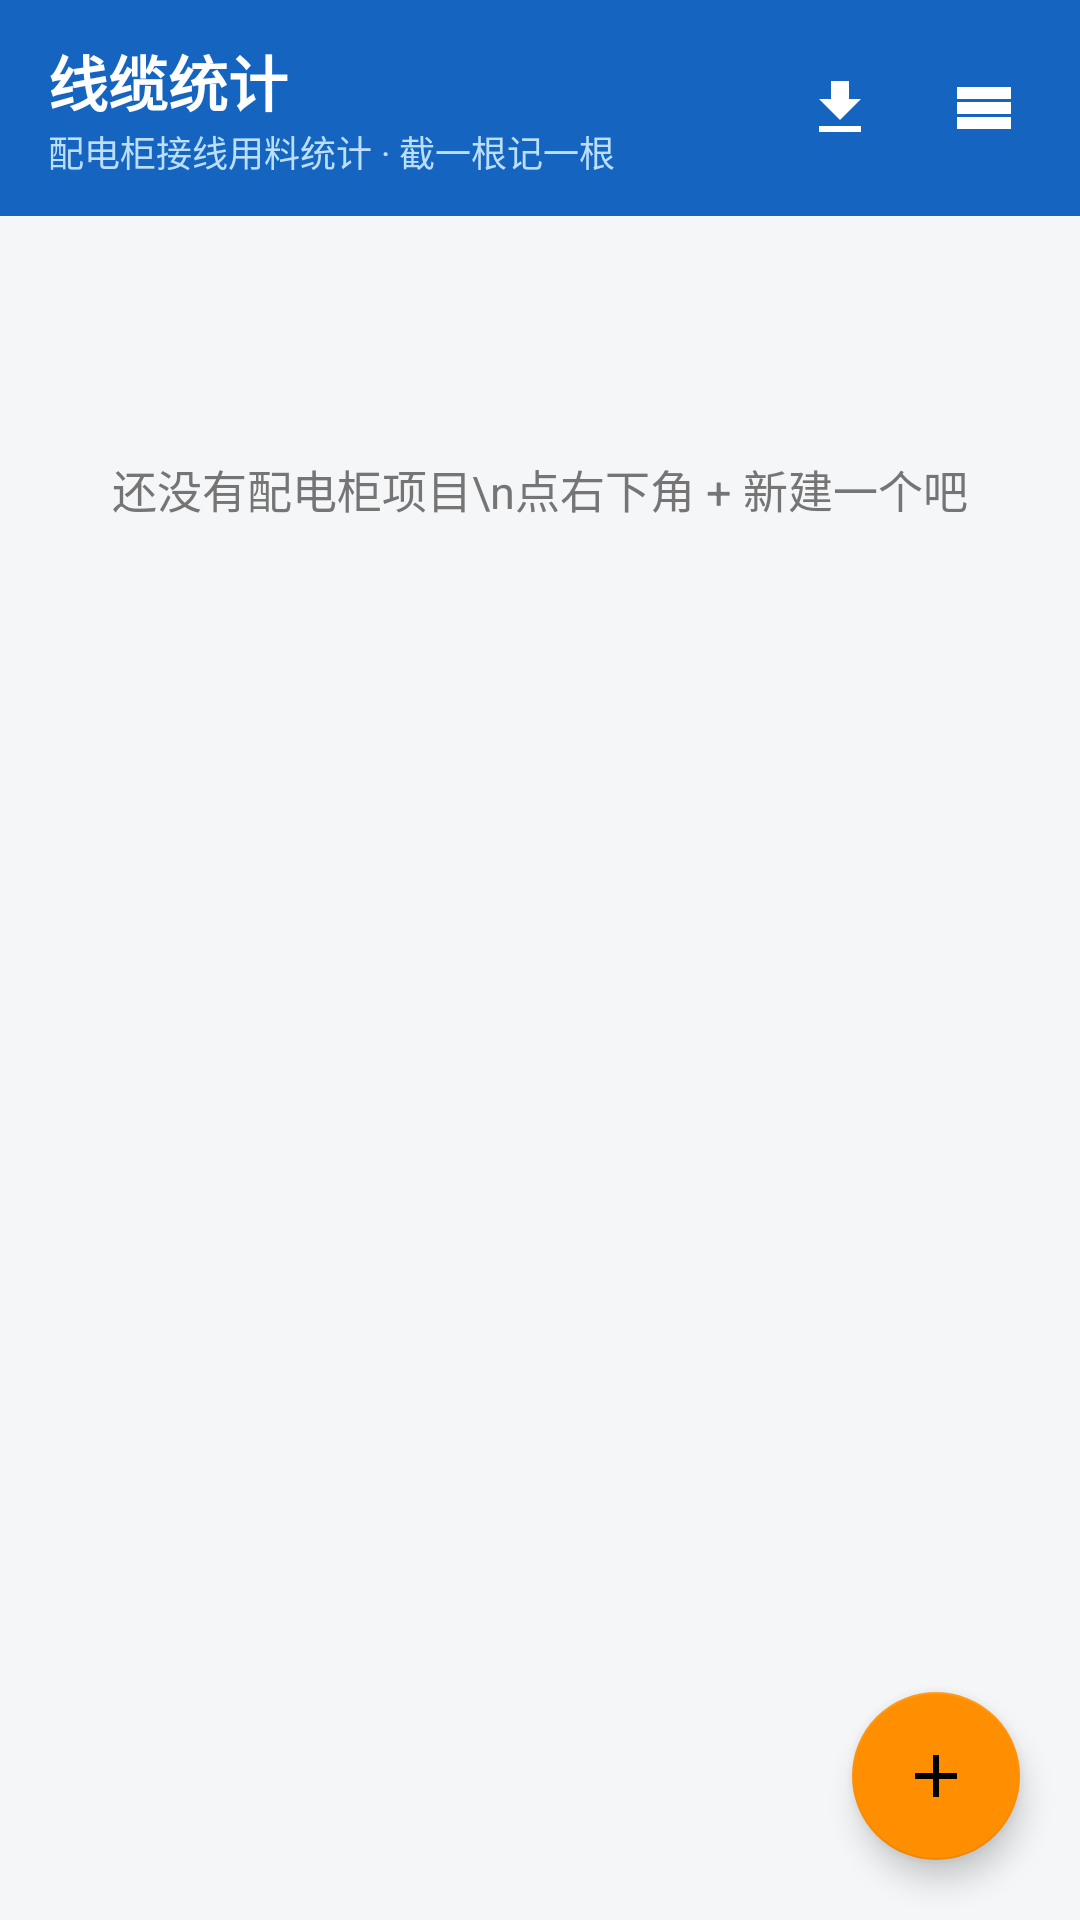

Icon bounding boxes for this 1080x1920 phone screenshot, format [x1=x1, y1=y1, x2=x2, y2=y2]:
add: [x1=852, y1=1692, x2=1020, y2=1860]
导出Excel: [x1=819, y1=81, x2=861, y2=132]
